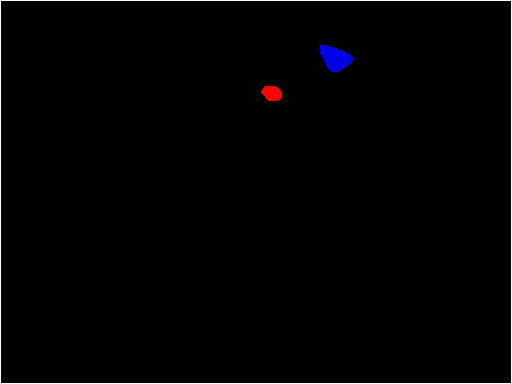chipped: (322, 46, 350, 69)
detached: (262, 84, 278, 101)
